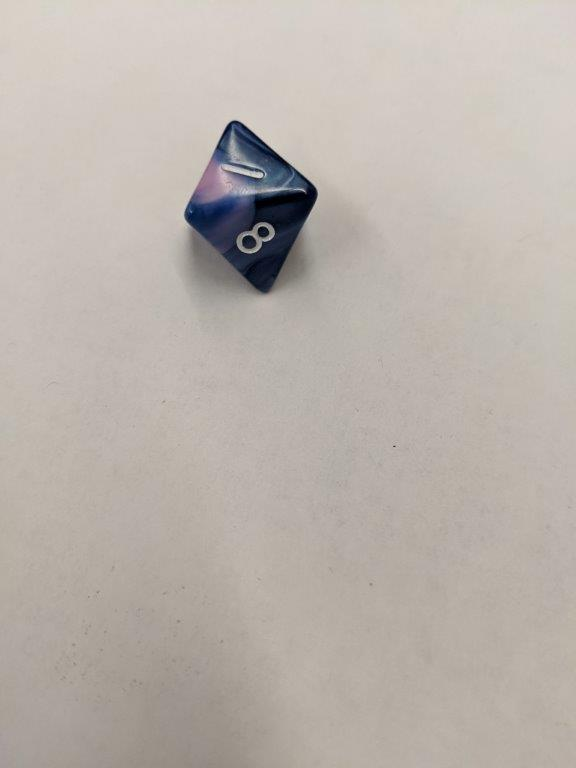d8-1: (184, 118, 318, 292)
